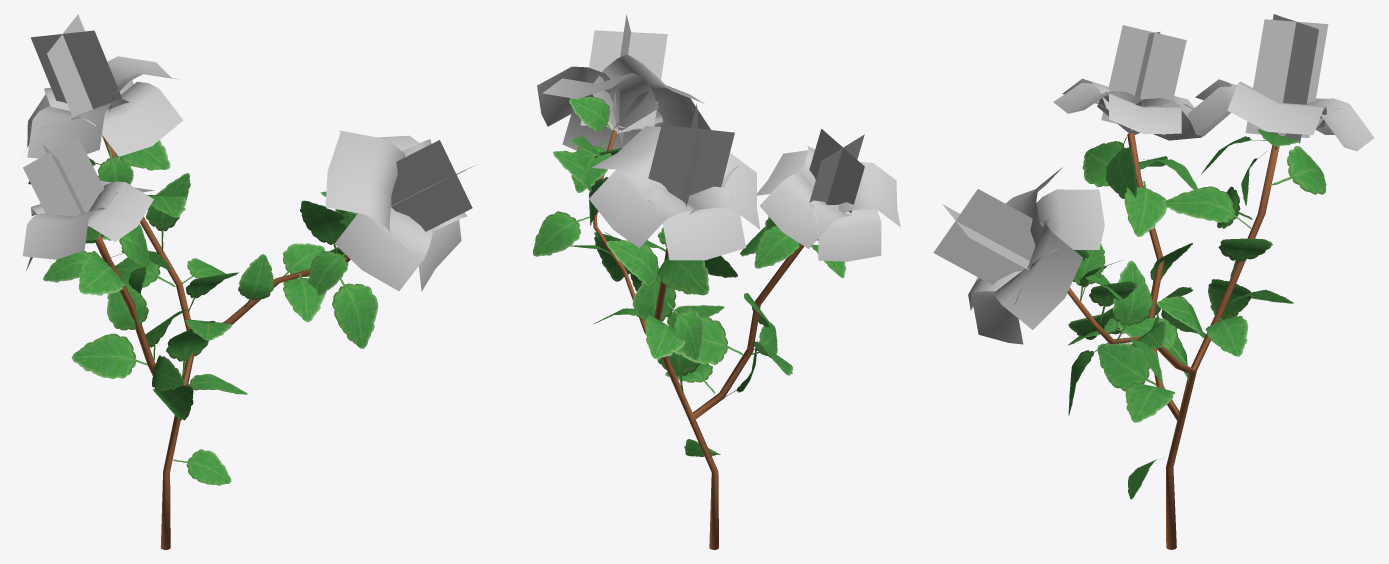
Rendered from Hibiscus 1.fbx.
3 renders of one model, left to right at view 1: azimuth 30°, elevation 25°; view 2: azimuth 150°, elevation 25°; view 3: azimuth 270°, elevation 25°, orthographic. The views are drawn at different scales.
Parts seen in each view (by area): view 1: Hibiscus 1; view 2: Hibiscus 1; view 3: Hibiscus 1.
Boxes of the visible parts, box(x1,y1,x2,y2) form: Hibiscus 1: box(22, 14, 477, 549); Hibiscus 1: box(533, 14, 900, 549); Hibiscus 1: box(933, 14, 1374, 549).
Size of the model in its own units: 80.19 by 93.67 by 72.79.
